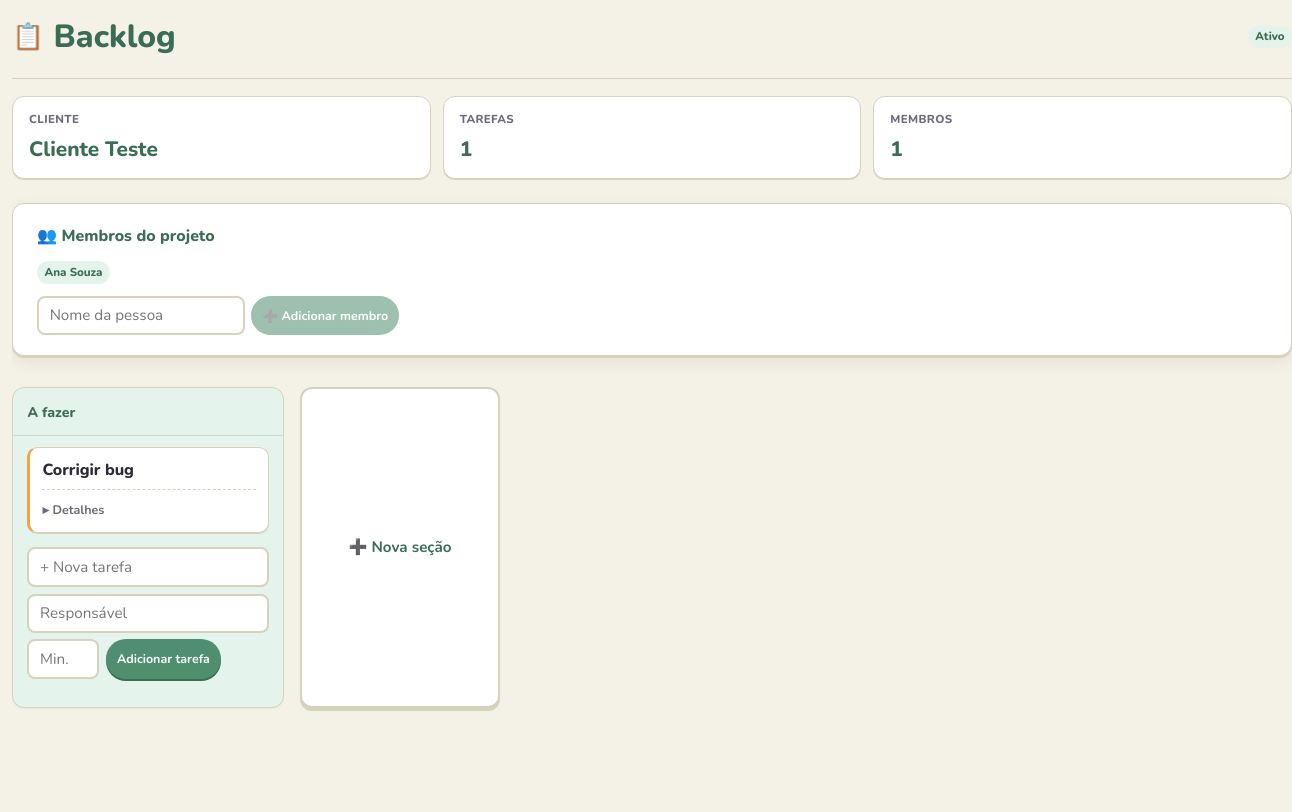
Test case: ProjetoDetalhePage › nome parcial que ainda é candidato a alguém cadastrado não mostra "Pessoa não encontrada"
expect the list item "Ana Souza" is shown: met, box [37, 261, 110, 284]
In the dropdown named "adicionar membro": (141, 315) [37, 296, 245, 335], type "b"
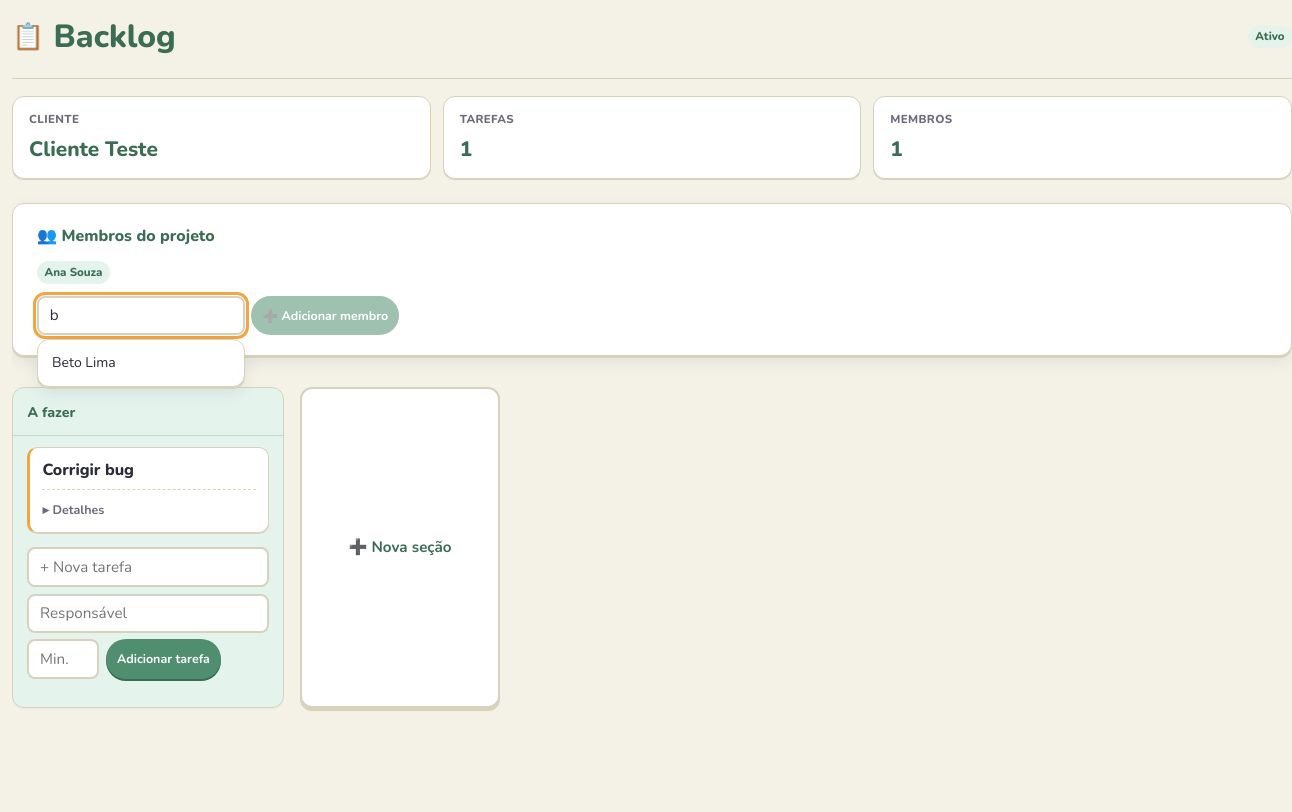
expect the option "Beto Lima" is shown: met, box [52, 353, 116, 372]
